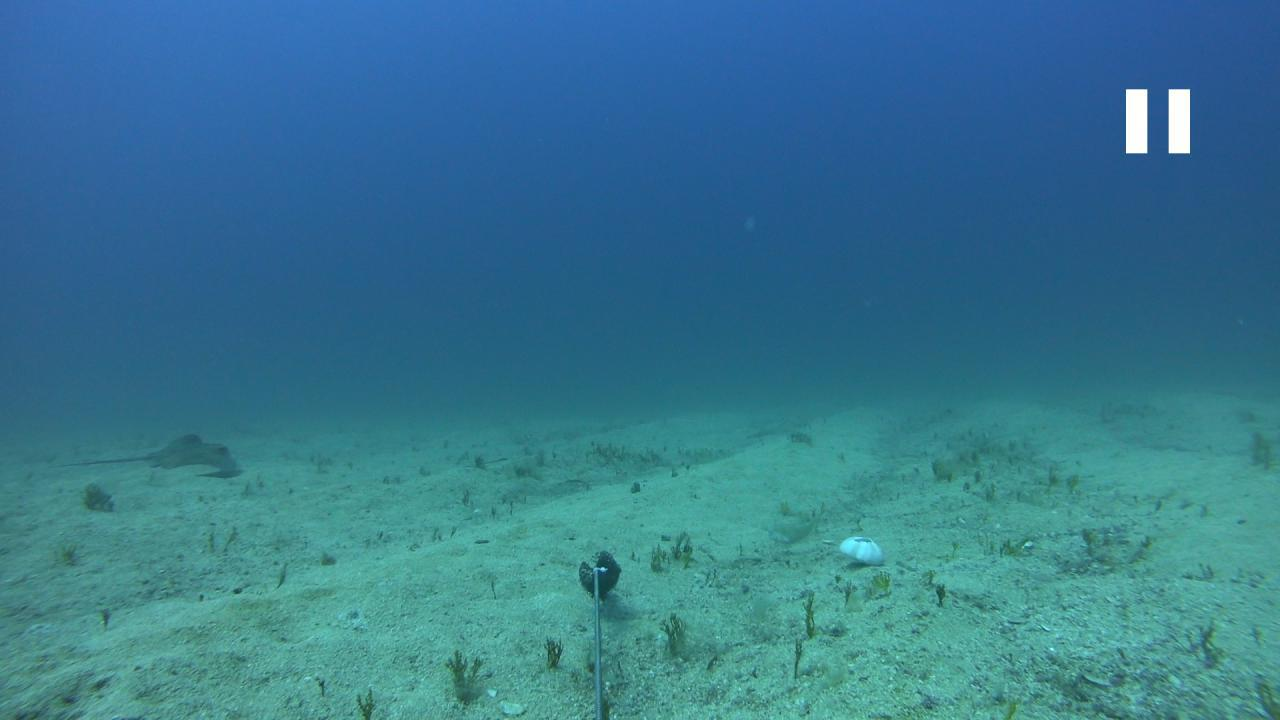dasyatis: (58, 432, 238, 472)
